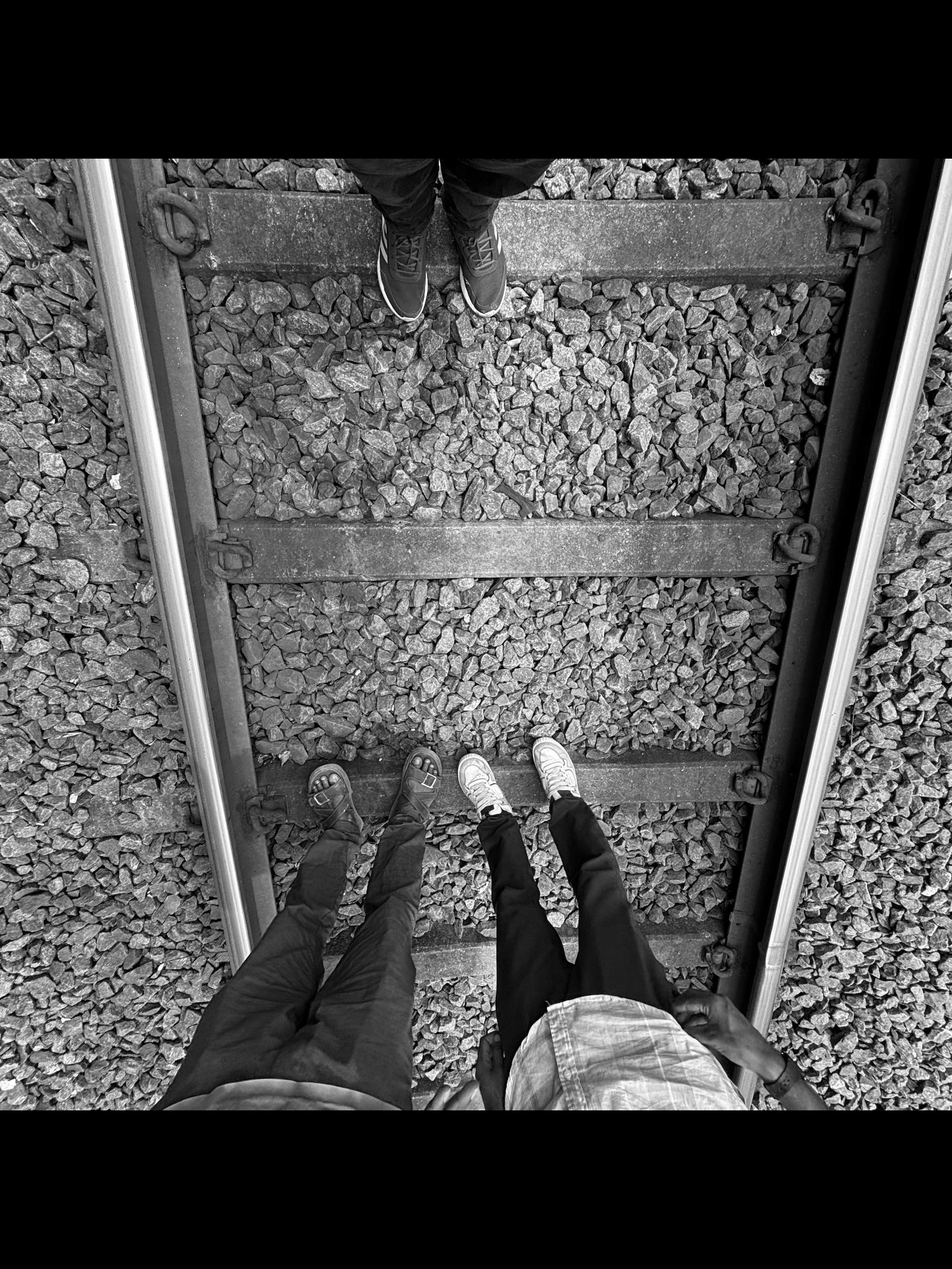cracks under rail seat: (246, 536, 404, 601)
